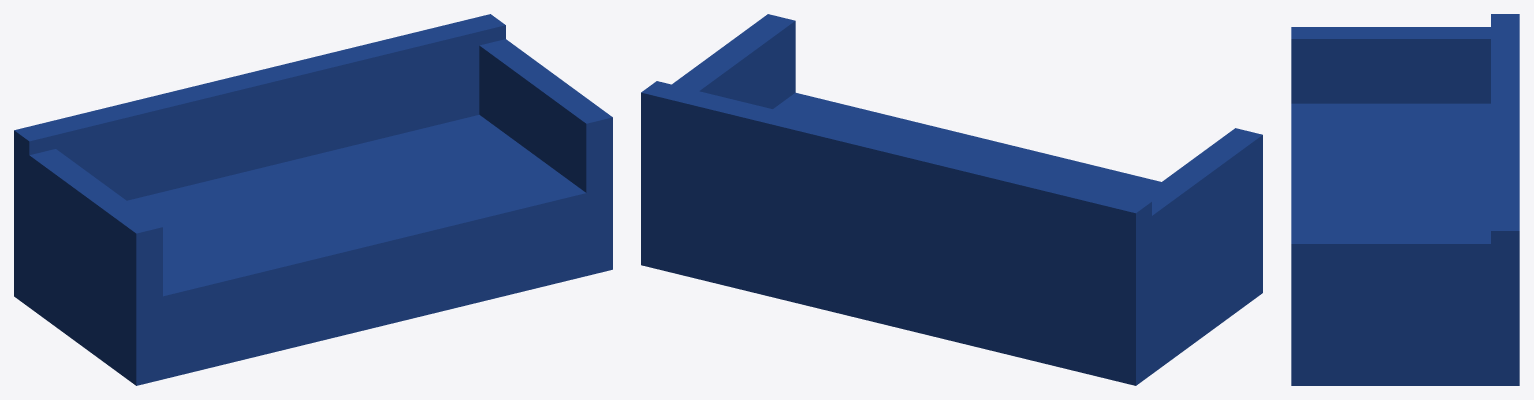
File: furniture-sofa.glb
The picture shows the model from 3 angles, left to right: view 1: azimuth 30°, elevation 25°; view 2: azimuth 150°, elevation 25°; view 3: azimuth 270°, elevation 25°; orthographic projection. The views are drawn at different scales.
Parts seen in each view (by area): view 1: sofa_base, sofa_back, sofa_arm_r, sofa_arm_l; view 2: sofa_base, sofa_back, sofa_arm_r, sofa_arm_l; view 3: sofa_base, sofa_arm_l, sofa_arm_r, sofa_back.
Part boxes in pixels (box(x1,y1,x2,y2)): sofa_base: box(14, 114, 612, 385); sofa_back: box(14, 14, 505, 200); sofa_arm_r: box(14, 144, 162, 344); sofa_arm_l: box(479, 39, 612, 192); sofa_base: box(641, 92, 1262, 385); sofa_back: box(641, 81, 1151, 299); sofa_arm_r: box(1108, 128, 1262, 341); sofa_arm_l: box(641, 14, 795, 219); sofa_base: box(1291, 103, 1519, 385); sofa_arm_l: box(1291, 231, 1519, 347); sofa_arm_r: box(1291, 27, 1490, 103); sofa_back: box(1491, 14, 1519, 308).
Size of the model in its own units: 1.8 by 0.7005 by 0.8.
